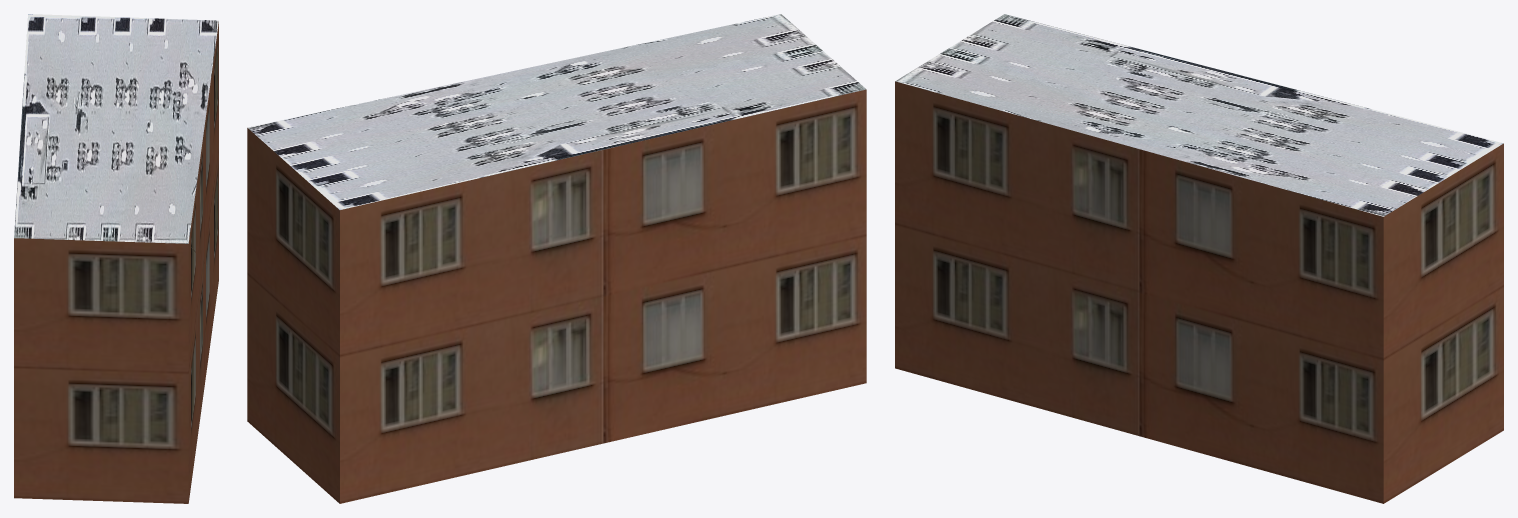
The model's file is ResTex__2220.fbx.
The picture shows the model from 3 angles, left to right: view 1: azimuth 30°, elevation 25°; view 2: azimuth 150°, elevation 25°; view 3: azimuth 270°, elevation 25°; orthographic projection. The views are drawn at different scales.
Visible parts, largest first — view 1: CityEngineMaterial_20_m, CityEngineMaterial_8_m; view 2: CityEngineMaterial_20_m, CityEngineMaterial_8_m; view 3: CityEngineMaterial_20_m, CityEngineMaterial_8_m.
Part boxes in pixels (left/top/right/bottom): CityEngineMaterial_20_m: left=14, top=22, right=218, bottom=503; CityEngineMaterial_8_m: left=14, top=14, right=218, bottom=243; CityEngineMaterial_20_m: left=247, top=89, right=866, bottom=503; CityEngineMaterial_8_m: left=247, top=14, right=866, bottom=209; CityEngineMaterial_20_m: left=895, top=81, right=1503, bottom=503; CityEngineMaterial_8_m: left=895, top=14, right=1503, bottom=216.
Bounding box in the file's own units: 9.09 × 6 × 11.53.
2 materials, 2 textured.
